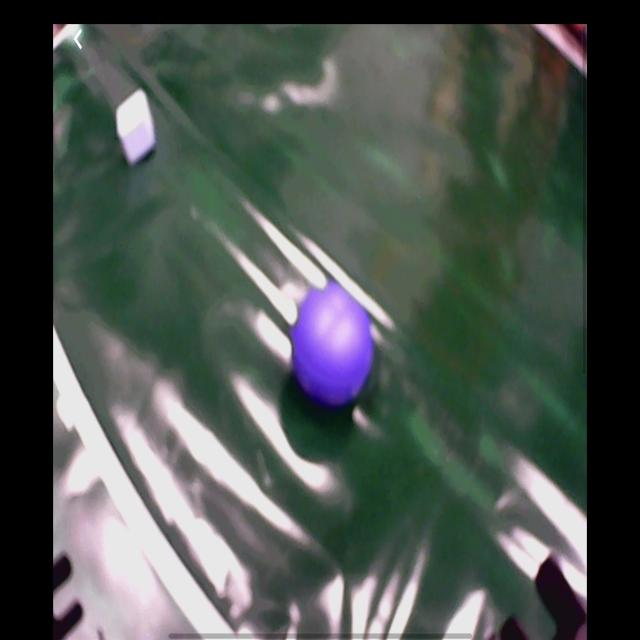ball: (293, 286, 374, 405)
